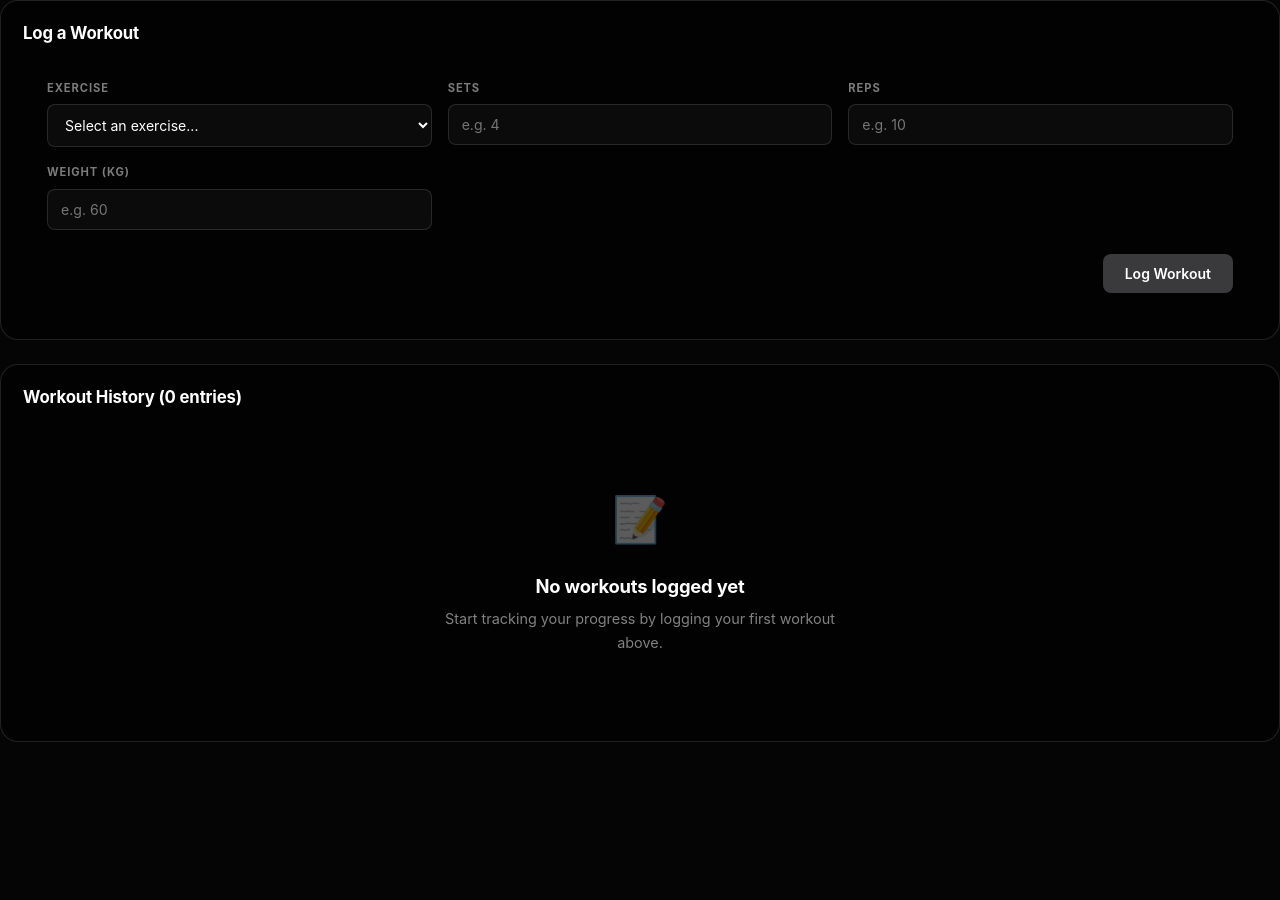
Test: Workout Flow Integration › displays error when submitting without selecting exercise
Note: Try to submit without filling anything
Click the button "Log Workout" at (1168, 274), box x1=1103 y1=254 x2=1233 y2=293
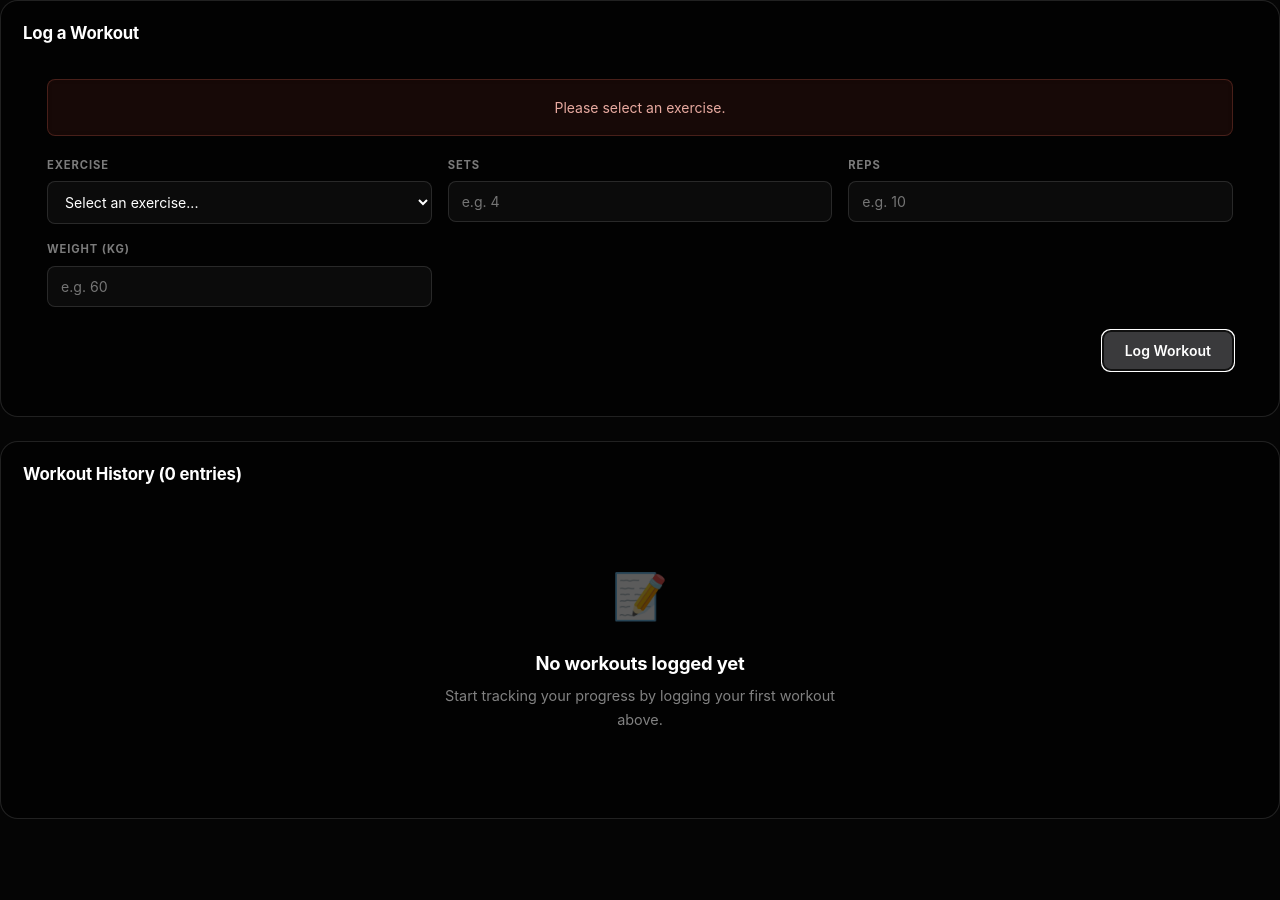
Expected: the text "Please select an exercise." is shown, x1=47 y1=79 x2=1233 y2=136
